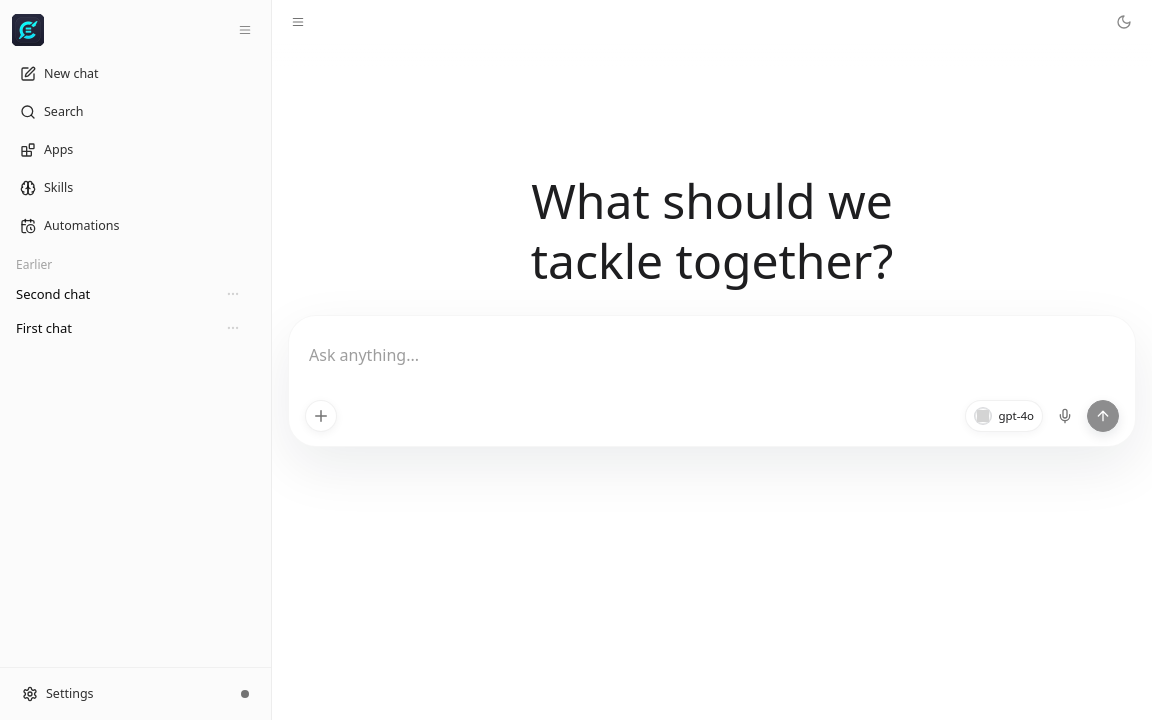
Test: App layout › returns from settings to the blank start page when no session was active
Click the button "New chat" at (136, 74), box [8, 58, 263, 90]
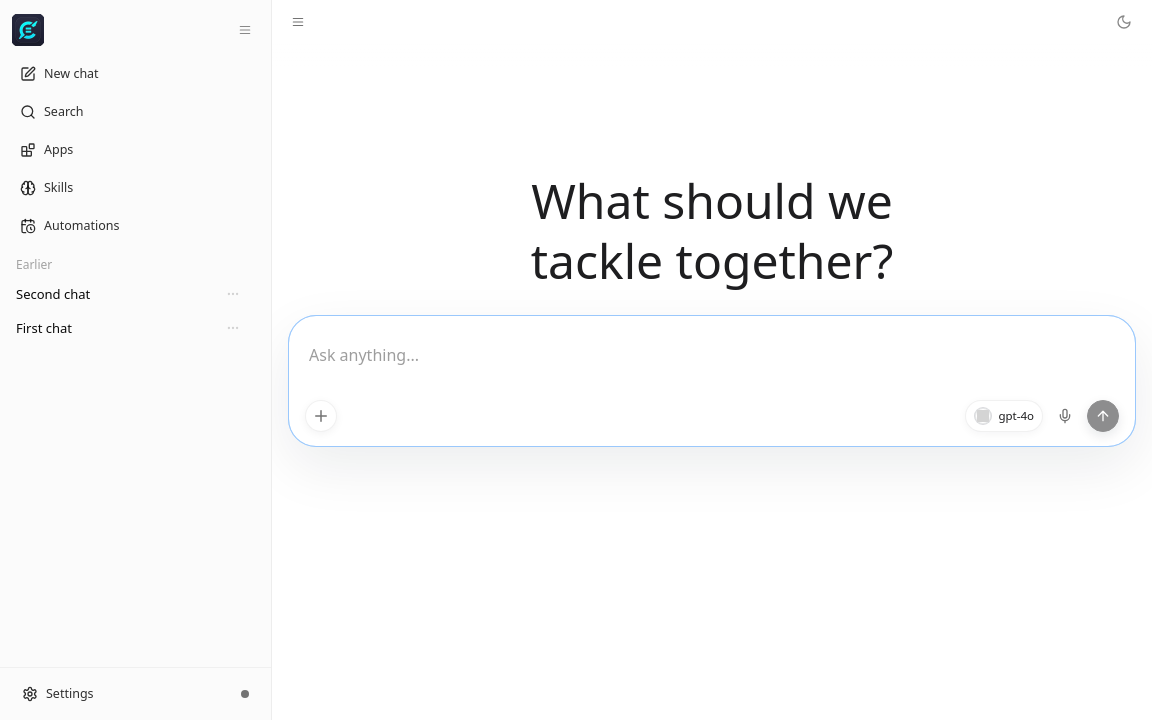
Click the button "Settings" at (118, 694), box [10, 678, 225, 710]
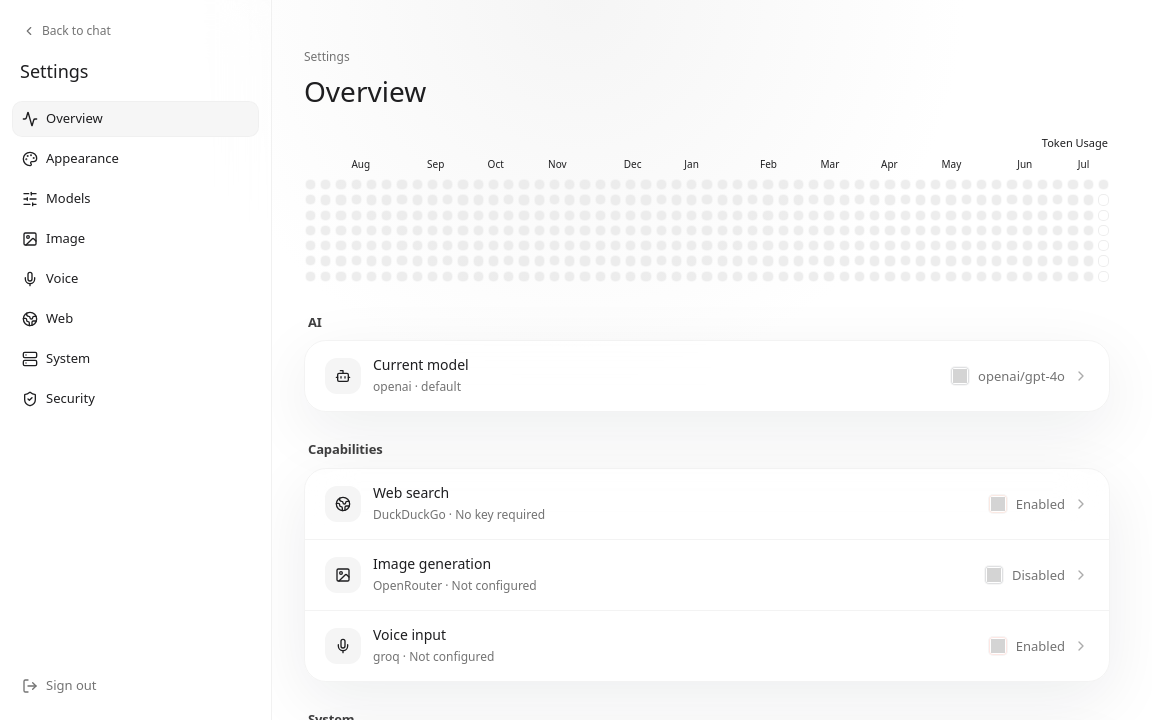
Expected: the heading "Overview" is shown, [304, 72, 426, 110]
Click the button "Back to chat" at (66, 31), box [12, 16, 121, 46]
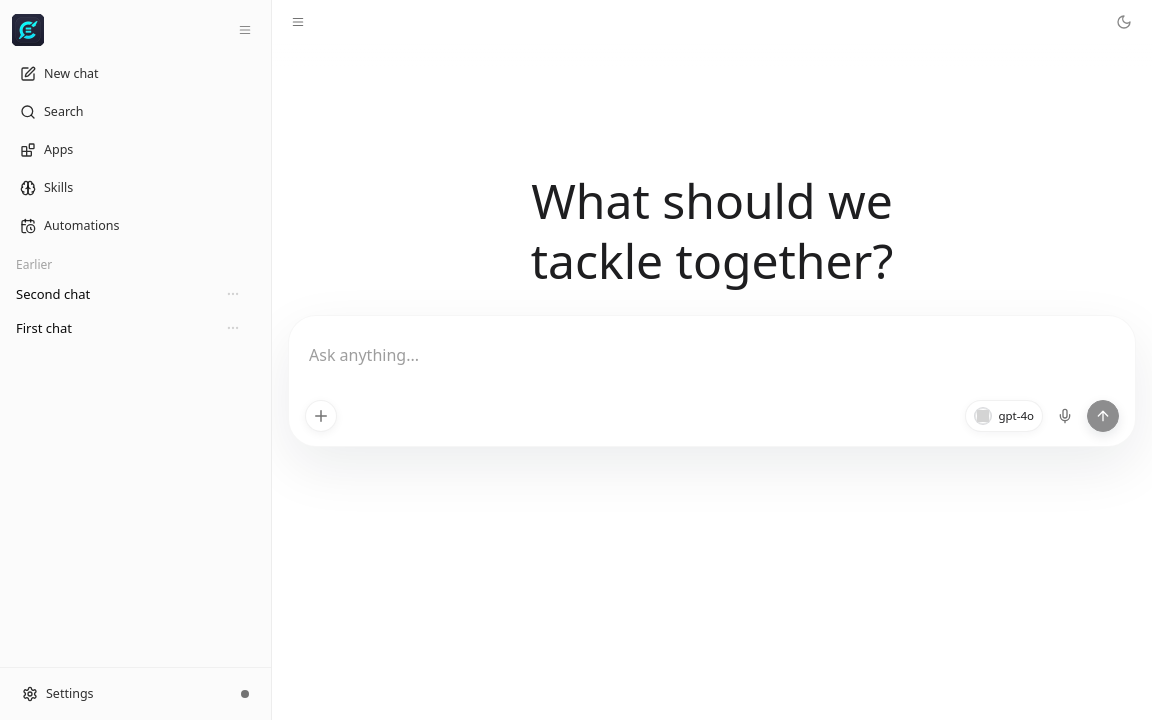
Expected: the heading "What should we tackle together?" is shown, [531, 168, 893, 293]
